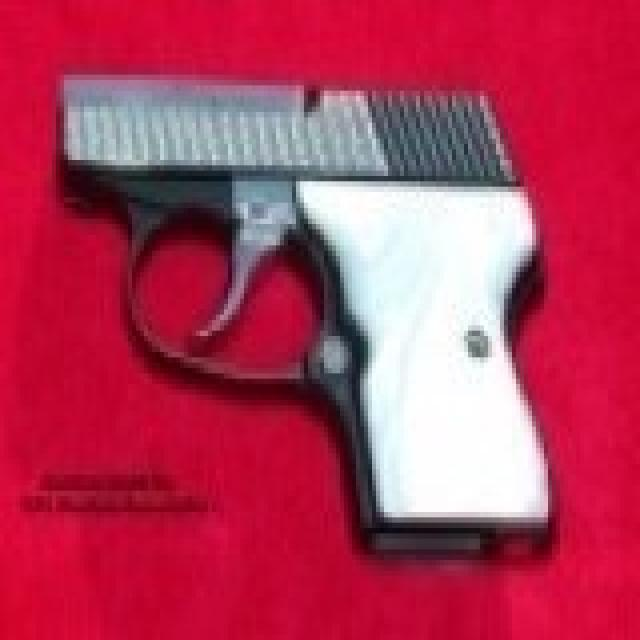Gun: (48, 52, 566, 562)
